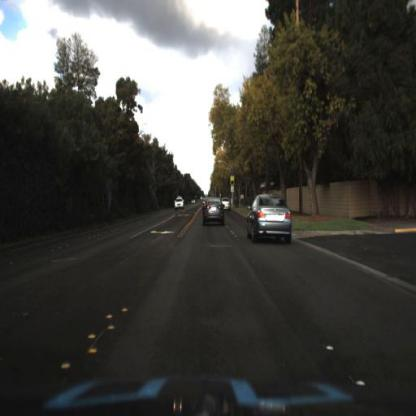car: (245, 192, 296, 246), (198, 196, 227, 228), (221, 193, 232, 213), (174, 195, 185, 211)
